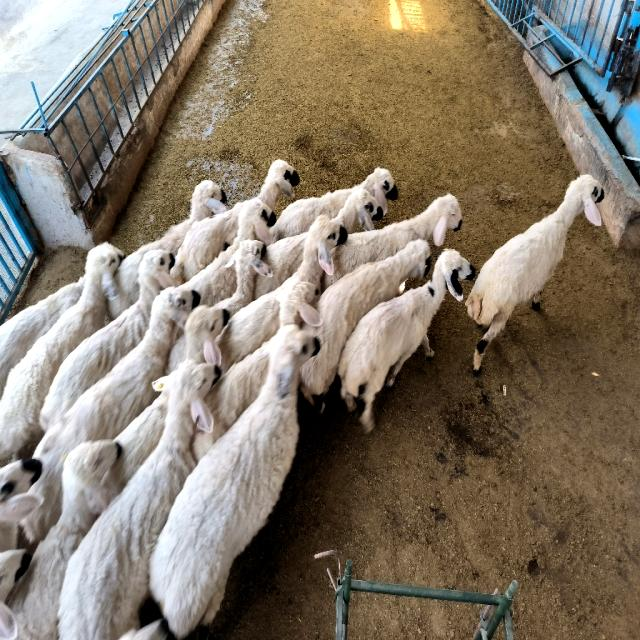sheep: (150, 325, 319, 638), (21, 287, 198, 542), (59, 360, 219, 638), (466, 175, 604, 371), (0, 242, 122, 456), (339, 250, 475, 432), (39, 250, 174, 431), (9, 440, 121, 638), (300, 240, 430, 405), (109, 180, 226, 318), (322, 193, 461, 289), (0, 277, 84, 396), (184, 198, 272, 306), (270, 168, 398, 241), (192, 342, 270, 459), (102, 387, 169, 499), (216, 283, 285, 372), (171, 203, 242, 283), (212, 242, 272, 316), (168, 305, 229, 372), (292, 215, 346, 288), (255, 234, 308, 298), (258, 160, 299, 208), (336, 190, 382, 232), (279, 282, 321, 327)
